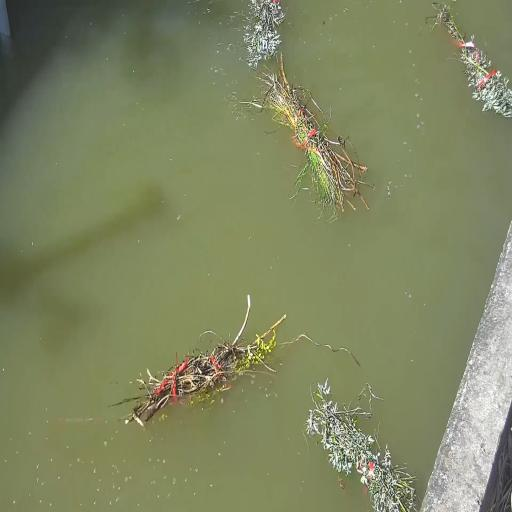twig: (125, 295, 286, 426), (250, 54, 369, 216), (306, 379, 415, 512), (426, 2, 512, 117), (243, 0, 285, 68)
